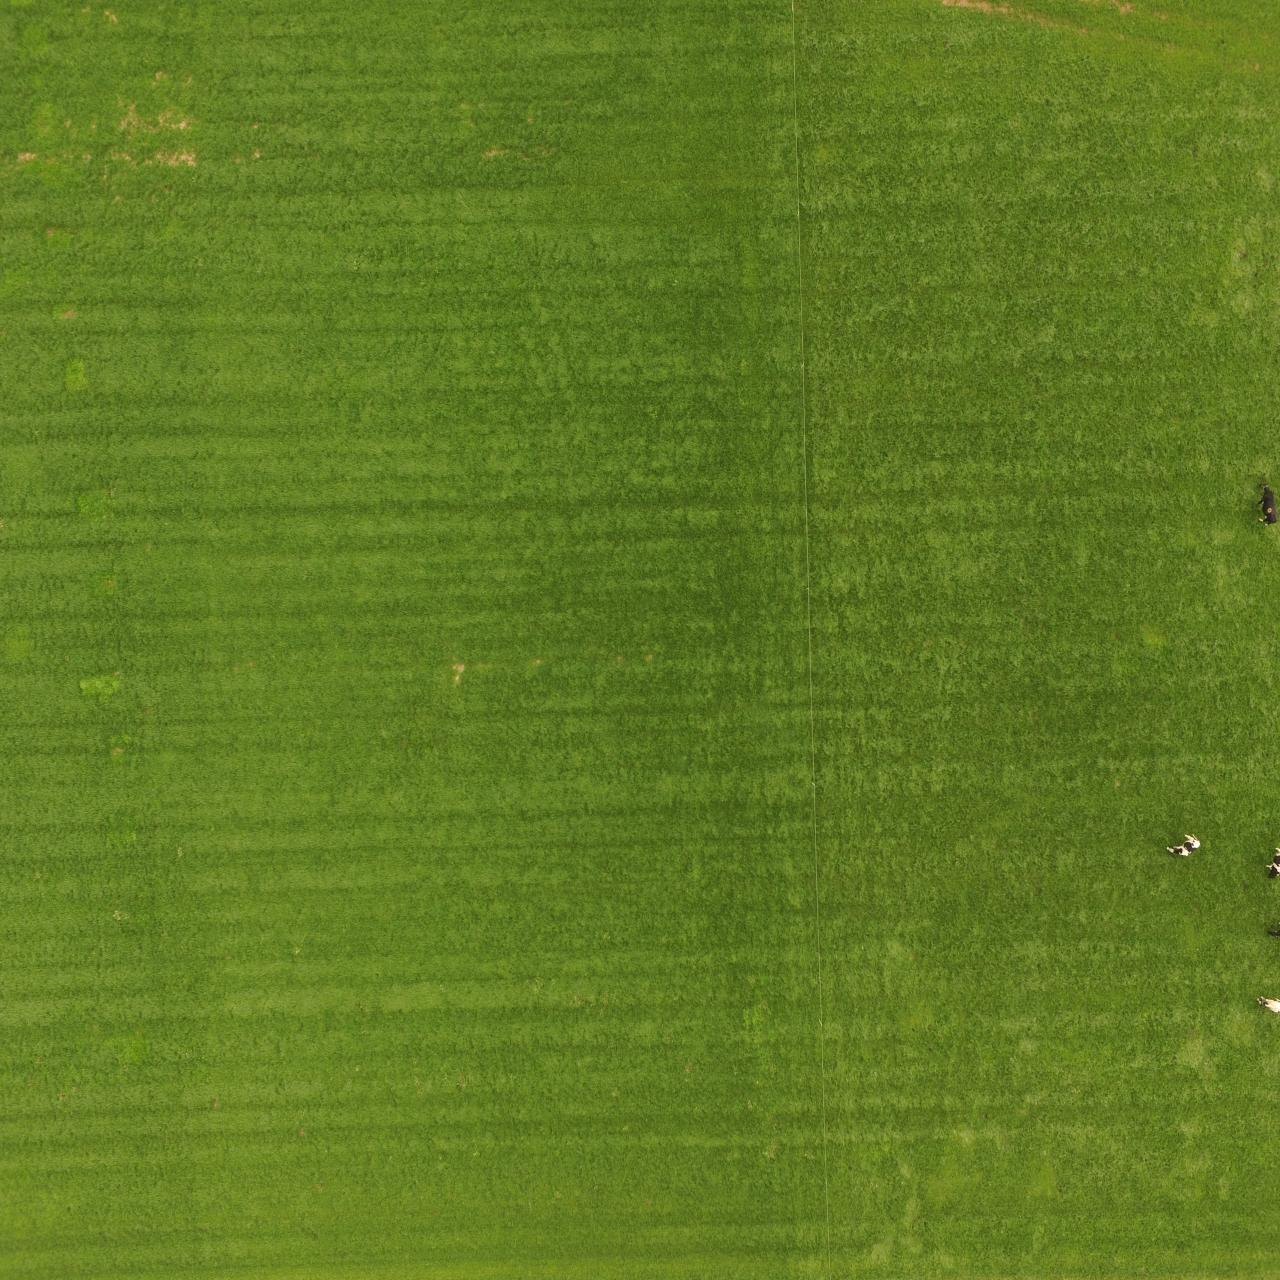cow: (1163, 826, 1201, 860)
